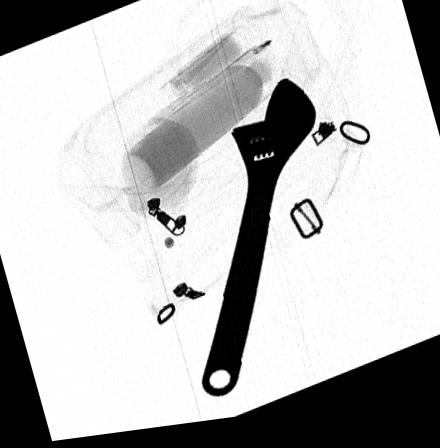Wrench: (201, 83, 315, 403)
